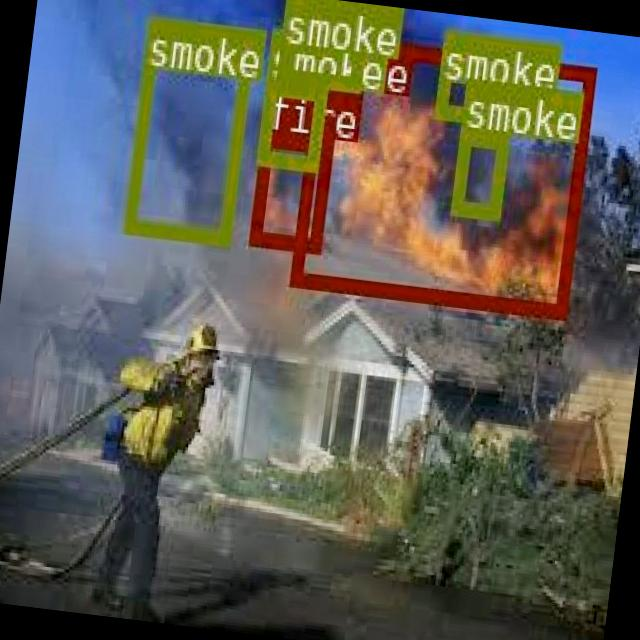fire: (289, 33, 593, 314), (247, 129, 330, 249)
smoke: (122, 13, 254, 242), (276, 0, 369, 89), (434, 29, 504, 123), (253, 77, 324, 166), (448, 126, 507, 218)
